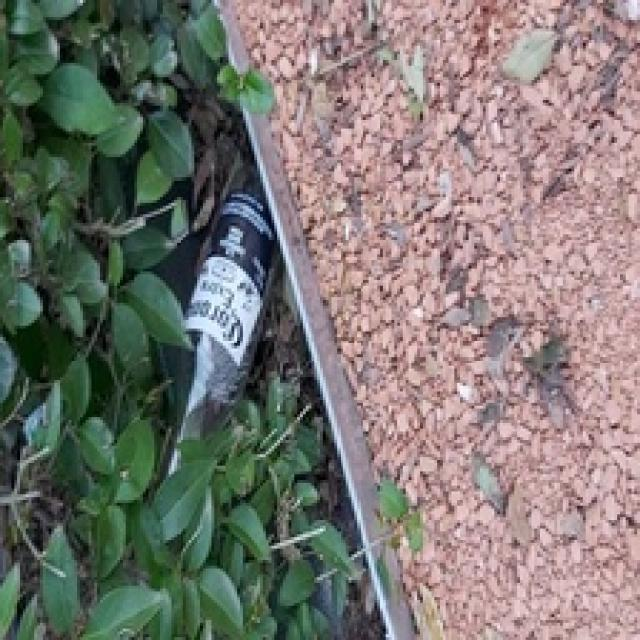Glass: (165, 190, 278, 480)
